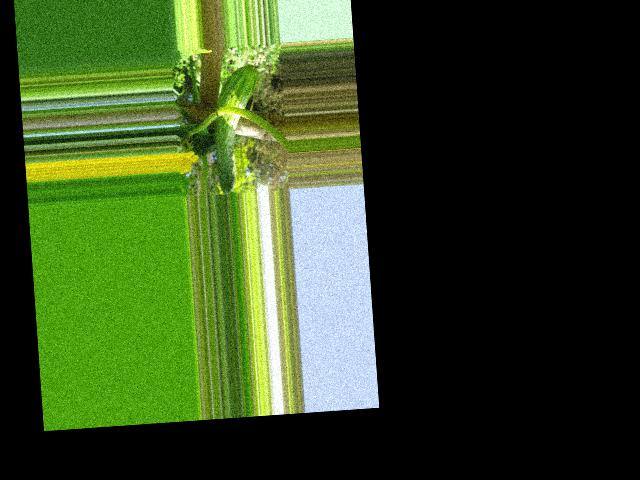cucumber: (210, 64, 265, 194)
